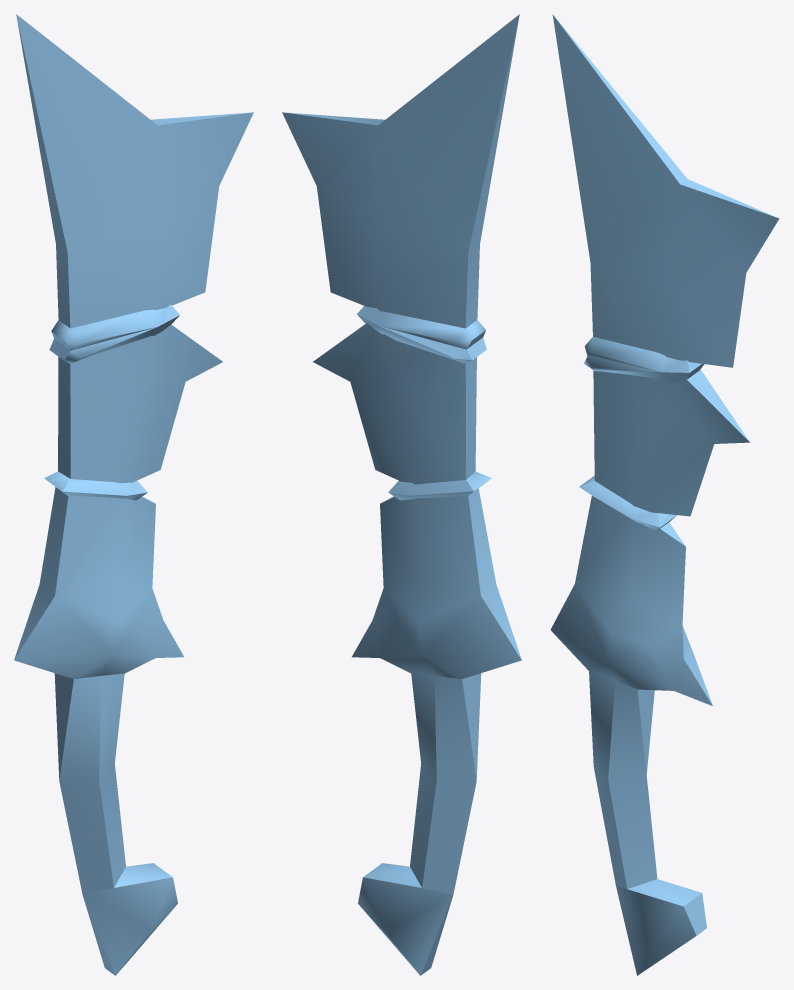
3 renders of one model, left to right at view 1: azimuth 30°, elevation 25°; view 2: azimuth 150°, elevation 25°; view 3: azimuth 330°, elevation 25°, orthographic. The views are drawn at different scales.
Visible parts, largest first — view 1: split_parent_0; view 2: split_parent_0; view 3: split_parent_0.
Boxes of the visible parts, box(x1,y1,x2,y2) form: split_parent_0: box(14, 14, 253, 975); split_parent_0: box(282, 14, 521, 975); split_parent_0: box(550, 14, 779, 975).
Size of the model in its own units: 0.256 by 1 by 0.071.
